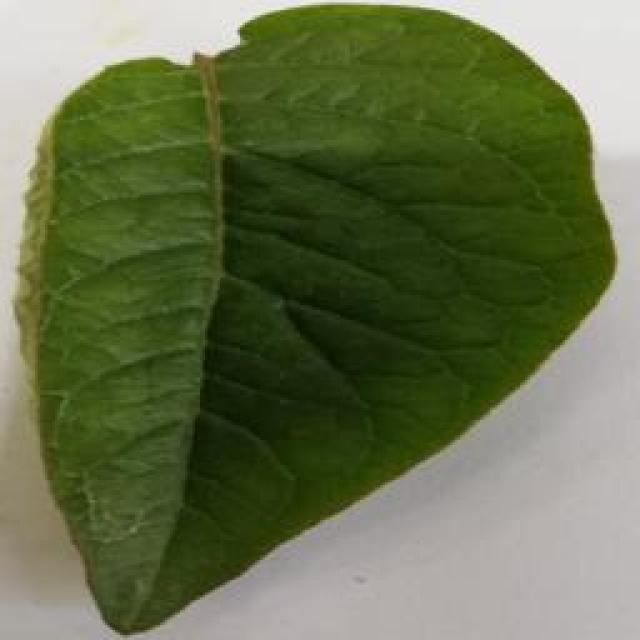Potato_Healthy: (21, 6, 606, 632)
